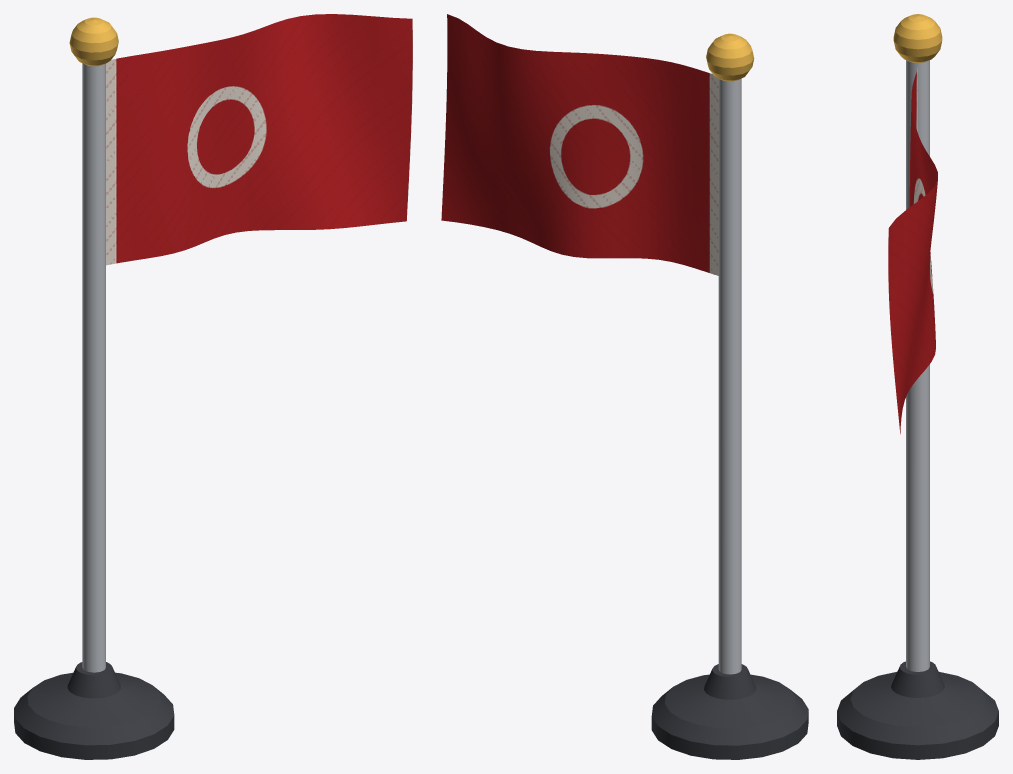
Rendered from flag_red.obj.
3 renders of one model, left to right at view 1: azimuth 30°, elevation 25°; view 2: azimuth 150°, elevation 25°; view 3: azimuth 270°, elevation 25°, orthographic. The views are drawn at different scales.
Size of the model in its own units: 80.29 by 145 by 30.
4 materials, 1 textured.
